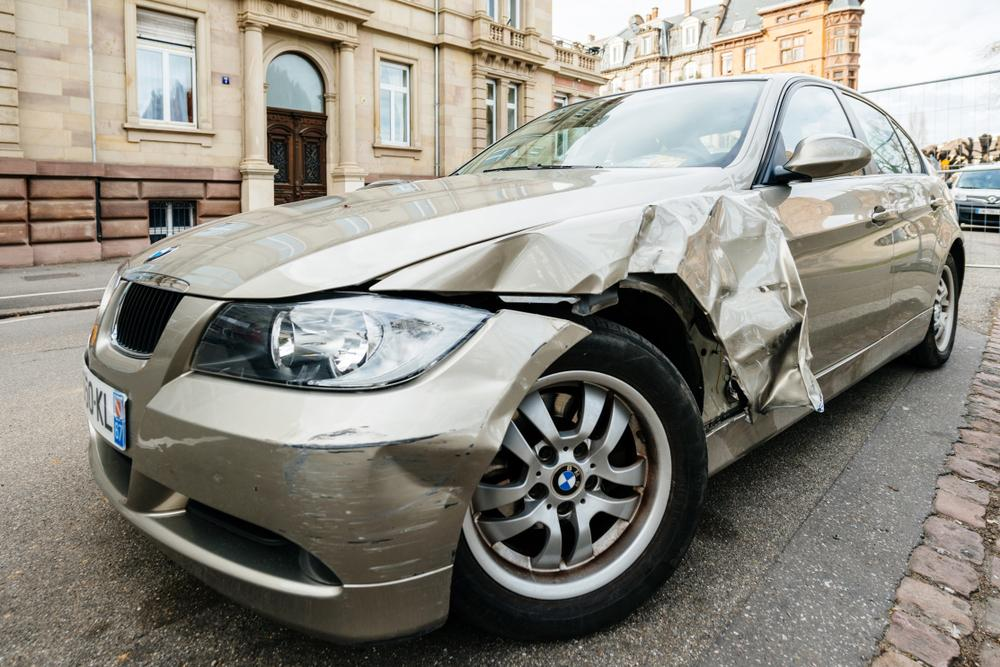dent: (436, 191, 817, 407), (363, 358, 528, 518)
scratch: (281, 420, 447, 578), (132, 432, 234, 452)
